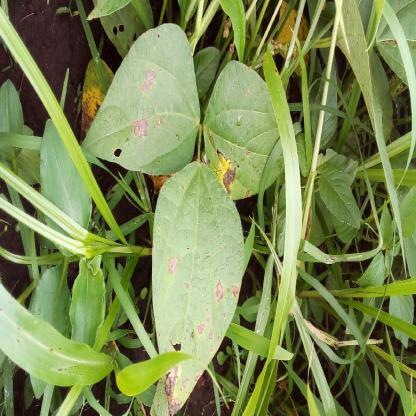Beans_Angular_LeafSpot: (153, 167, 239, 411), (94, 24, 195, 168), (199, 62, 291, 198)
